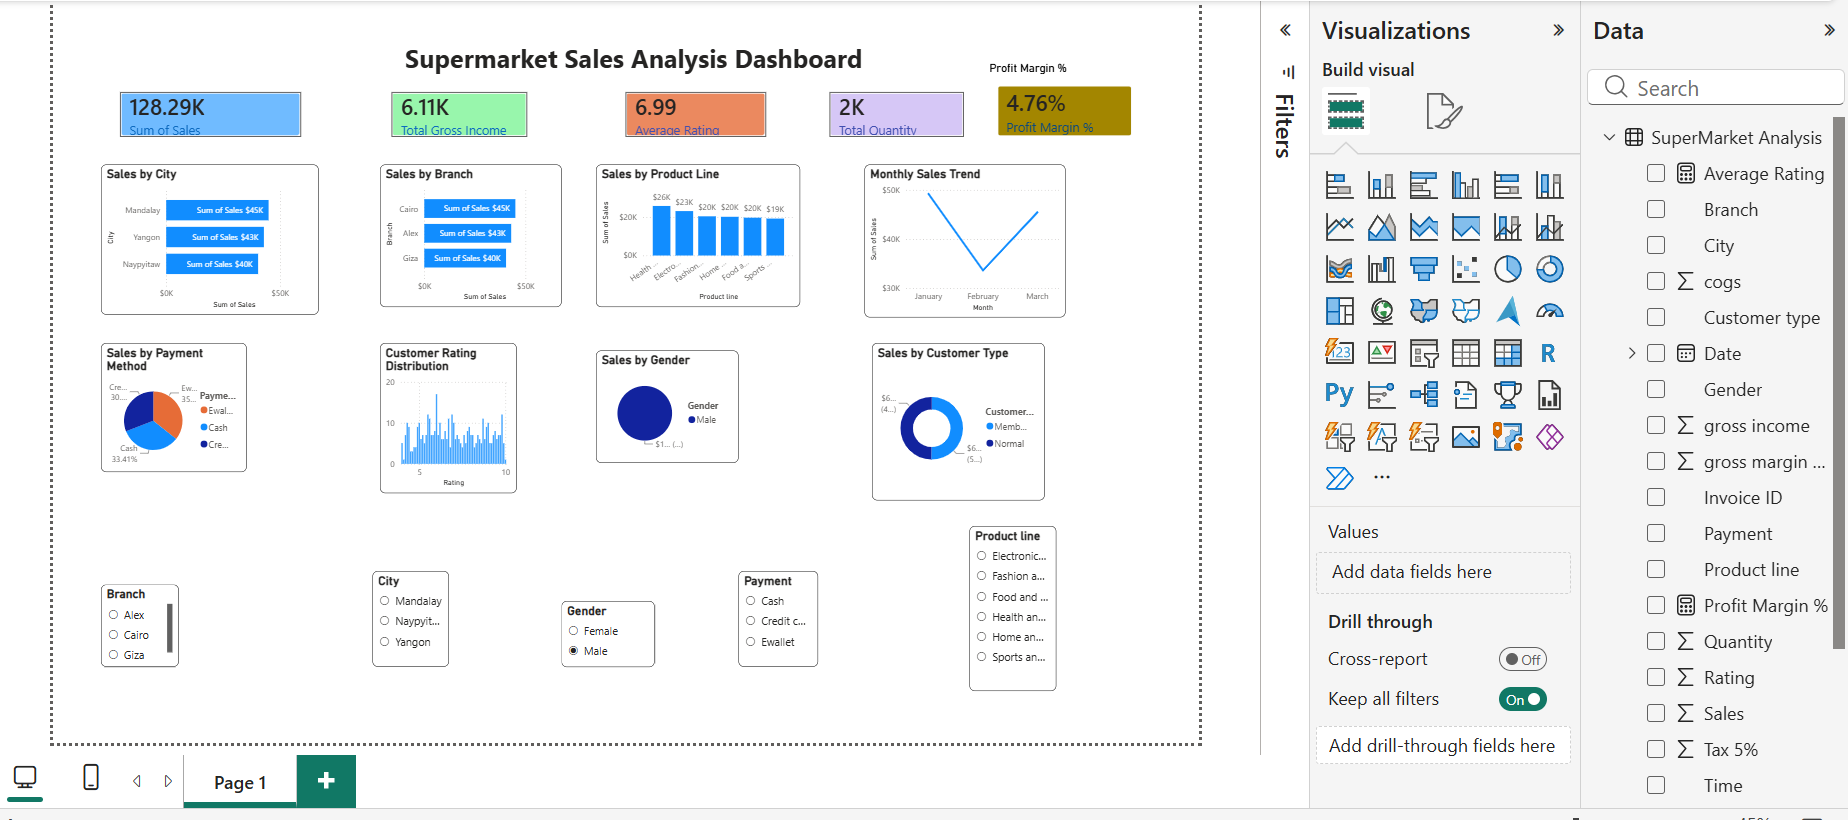

Layout of this report page (visuals, bound fields, positions):
{"tool":"powerbi","page":{"name":"Page 1","canvas":[1280,1500],"ordinal":0},"visuals":[{"type":"cardVisual","fields":{"Data":["SuperMarket Analysis.Profit Margin %"]},"box":[959.2,83.1,171.2,95.5],"z":1000},{"type":"cardVisual","fields":{"Data":["SuperMarket Analysis.Total Sales"]},"box":[0,83.1,177.3,104.5],"z":2000},{"type":"cardVisual","fields":{"Data":["SuperMarket Analysis.Total Gross Income"]},"box":[684.5,83.1,203,97],"z":3000},{"type":"cardVisual","fields":{"Data":["SuperMarket Analysis.Total Quantity"]},"box":[218.3,83.1,163.6,103],"z":4000},{"type":"cardVisual","fields":{"Data":["SuperMarket Analysis.Average Rating"]},"box":[460.6,74.6,198.5,106.1],"z":5000},{"type":"clusteredColumnChart","title":" Sales by City","fields":{"Category":["SuperMarket Analysis.City"],"Y":["SuperMarket Analysis.Total Sales"]},"box":[43.7,236.6,162.1,143.9],"z":6000},{"type":"clusteredColumnChart","title":"Sales by Branch","fields":{"Category":["SuperMarket Analysis.Branch"],"Y":["SuperMarket Analysis.Total Sales"]},"box":[491.5,228.2,156,152],"z":7000},{"type":"clusteredColumnChart","title":"Sales by Product line","fields":{"Category":["SuperMarket Analysis.Product line"],"Y":["SuperMarket Analysis.Total Sales"]},"box":[43.7,416.9,252.1,194.4],"z":8000},{"type":"lineChart","title":"Monthly Sales Trend","fields":{"Category":["SuperMarket Analysis.Date.Variation.Date Hierarchy.Year","SuperMarket Analysis.Date.Variation.Date Hierarchy.Quarter","SuperMarket Analysis.Date.Variation.Date Hierarchy.Month","SuperMarket Analysis.Date.Variation.Date Hierarchy.Day"],"Y":["SuperMarket Analysis.Total Sales"]},"box":[95.8,678.9,319.7,201.4],"z":9000},{"type":"clusteredColumnChart","title":"Sales by Payment Method","fields":{"Category":["SuperMarket Analysis.Payment"],"Y":["SuperMarket Analysis.Total Sales"]},"box":[792,398,270,318],"z":10000},{"type":"clusteredColumnChart","title":"Customer Rating Distribution","fields":{"Category":["SuperMarket Analysis.Rating"],"Y":["CountNonNull(SuperMarket Analysis.Rating)"]},"box":[538,715.5,507.6,165.2],"z":11000},{"type":"clusteredColumnChart","title":"Sales by Gender","fields":{"Category":["SuperMarket Analysis.Gender"],"Y":["SuperMarket Analysis.Total Sales"]},"box":[878.9,228.2,159.1,150],"z":12000},{"type":"clusteredColumnChart","title":"Sales by Customer Type","fields":{"Category":["SuperMarket Analysis.Customer type"],"Y":["SuperMarket Analysis.Total Sales"]},"box":[474.6,398.6,249.3,195.8],"z":13000},{"type":"listSlicer","fields":{"Values":["SuperMarket Analysis.Branch"]},"box":[219.2,948.1,118.3,163.4],"z":14000},{"type":"listSlicer","fields":{"Values":["SuperMarket Analysis.City"]},"box":[376.9,946.2,114.1,163.4],"z":15000},{"type":"listSlicer","fields":{"Values":["SuperMarket Analysis.Gender"]},"box":[517.3,948.1,102.8,153.5],"z":16000},{"type":"listSlicer","fields":{"Values":["SuperMarket Analysis.Payment"]},"box":[648.1,946.2,116.9,153.5],"z":17000},{"type":"listSlicer","fields":{"Values":["SuperMarket Analysis.Product line"]},"box":[807.7,946.2,197,222.7],"z":18000},{"type":"textbox","box":[263.5,21.2,695.5,60.6],"z":18001}]}

Visuals, with their boxes on the page's 1280x1500 design canvas (x1, y1, x2, y2). These are canvas units, not pixel positions in the 1848x820 screenshot, which may show the page scaled, cropped or inside an application window:
cardVisual - SuperMarket Analysis.Profit Margin %: 959/83/1130/179
cardVisual - SuperMarket Analysis.Total Sales: 0/83/177/188
cardVisual - SuperMarket Analysis.Total Gross Income: 684/83/888/180
cardVisual - SuperMarket Analysis.Total Quantity: 218/83/382/186
cardVisual - SuperMarket Analysis.Average Rating: 461/75/659/181
" Sales by City" clusteredColumnChart: 44/237/206/380
"Sales by Branch" clusteredColumnChart: 492/228/648/380
"Sales by Product line" clusteredColumnChart: 44/417/296/611
"Monthly Sales Trend" lineChart: 96/679/416/880
"Sales by Payment Method" clusteredColumnChart: 792/398/1062/716
"Customer Rating Distribution" clusteredColumnChart: 538/716/1046/881
"Sales by Gender" clusteredColumnChart: 879/228/1038/378
"Sales by Customer Type" clusteredColumnChart: 475/399/724/594
listSlicer - SuperMarket Analysis.Branch: 219/948/338/1112
listSlicer - SuperMarket Analysis.City: 377/946/491/1110
listSlicer - SuperMarket Analysis.Gender: 517/948/620/1102
listSlicer - SuperMarket Analysis.Payment: 648/946/765/1100
listSlicer - SuperMarket Analysis.Product line: 808/946/1005/1169
textbox: 264/21/959/82
